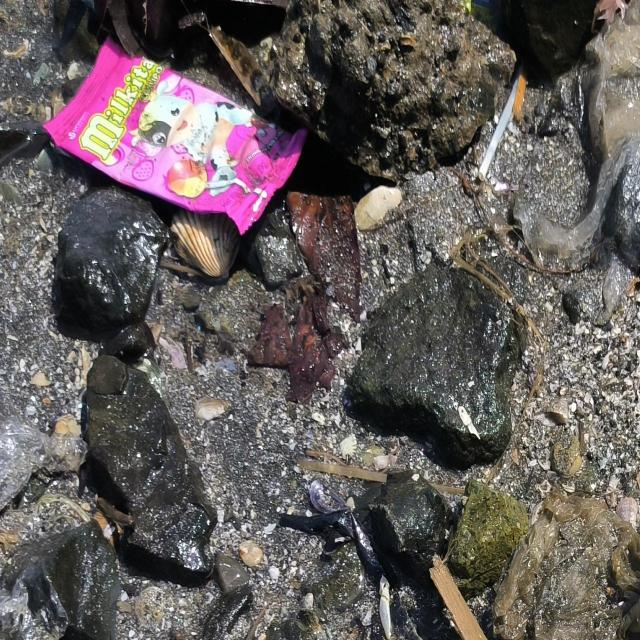plastic_waste: (42, 34, 310, 238), (478, 62, 525, 182)
